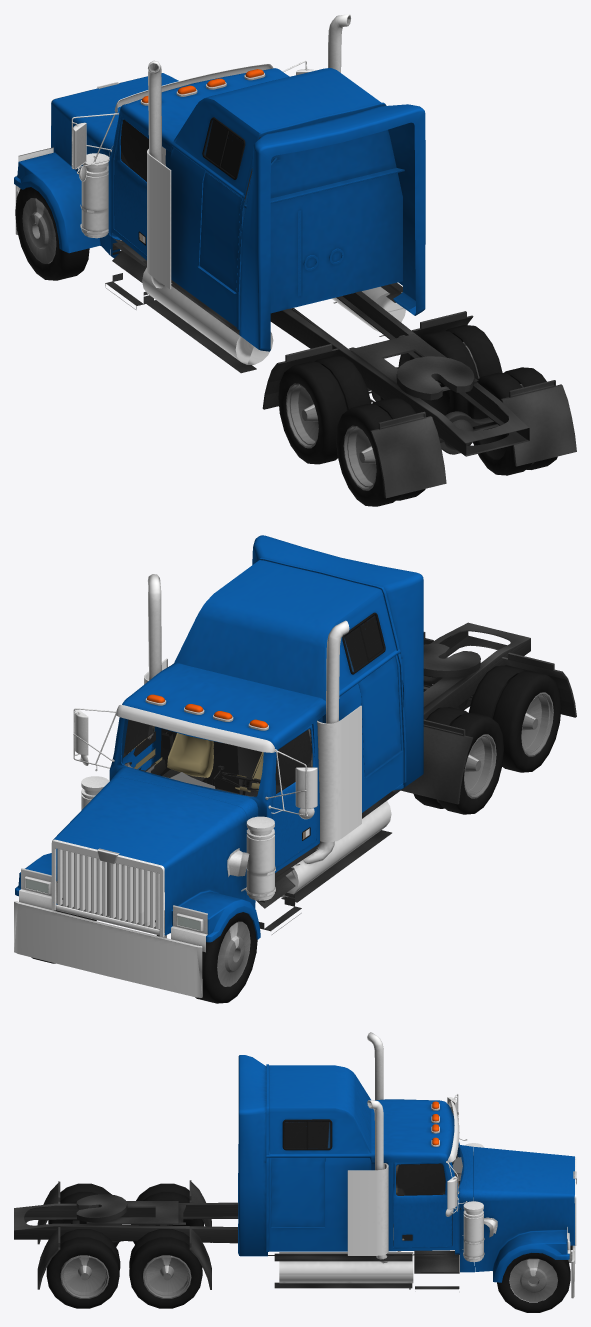
File: truck.obj
3 renders of one model, top to bottom at view 1: azimuth 30°, elevation 25°; view 2: azimuth 150°, elevation 25°; view 3: azimuth 270°, elevation 25°, orthographic. The views are drawn at different scales.
Parts seen in each view (by area): view 1: Truck, Door1; view 2: Truck, interior, Door1, Door2; view 3: Truck, Door2.
Boxes of the visible parts, x1=… form: Truck: x1=14, y1=14, x2=576, y2=506; Door1: x1=114, y1=117, x2=148, y2=255; Truck: x1=14, y1=535, x2=576, y2=1003; interior: x1=124, y1=728, x2=308, y2=839; Door1: x1=272, y1=725, x2=316, y2=866; Door2: x1=122, y1=719, x2=165, y2=775; Truck: x1=14, y1=1032, x2=576, y2=1312; Door2: x1=393, y1=1162, x2=451, y2=1247.
Bounding box in the file's own units: 109 × 128 × 306.
2 materials, 2 textured.
